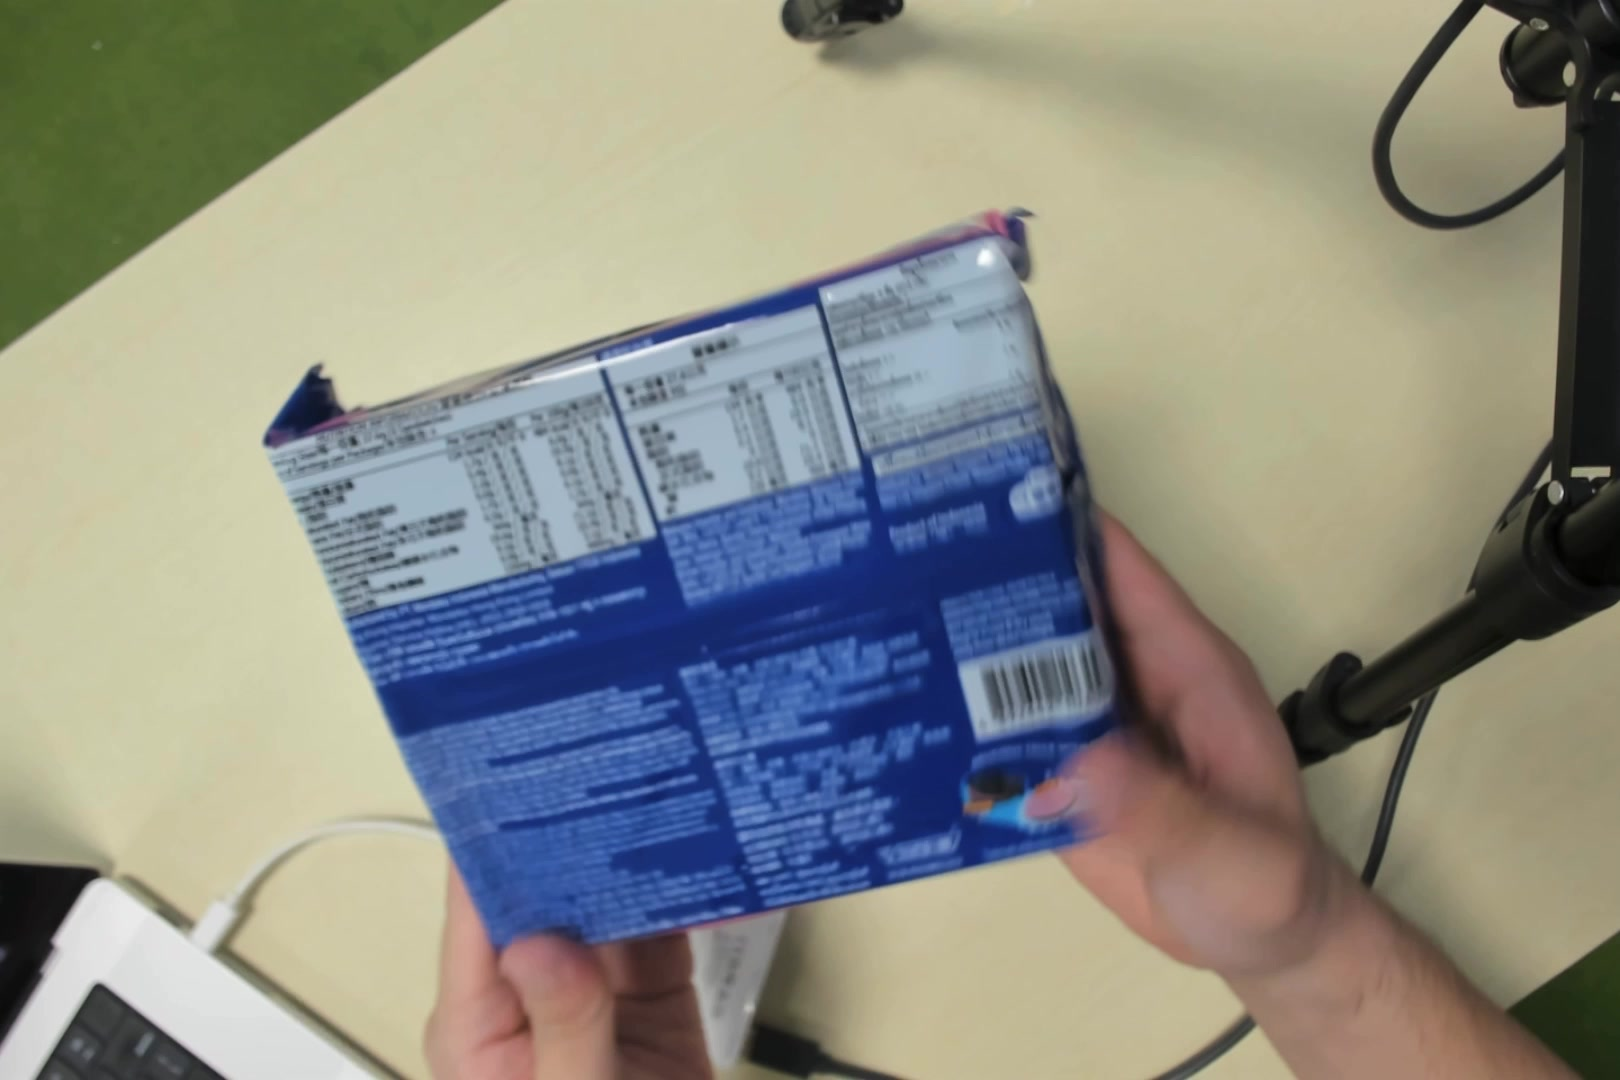SweetsChocolatesOthers_200-299g_Halal_NonHealthy: (360, 278, 1099, 929)
